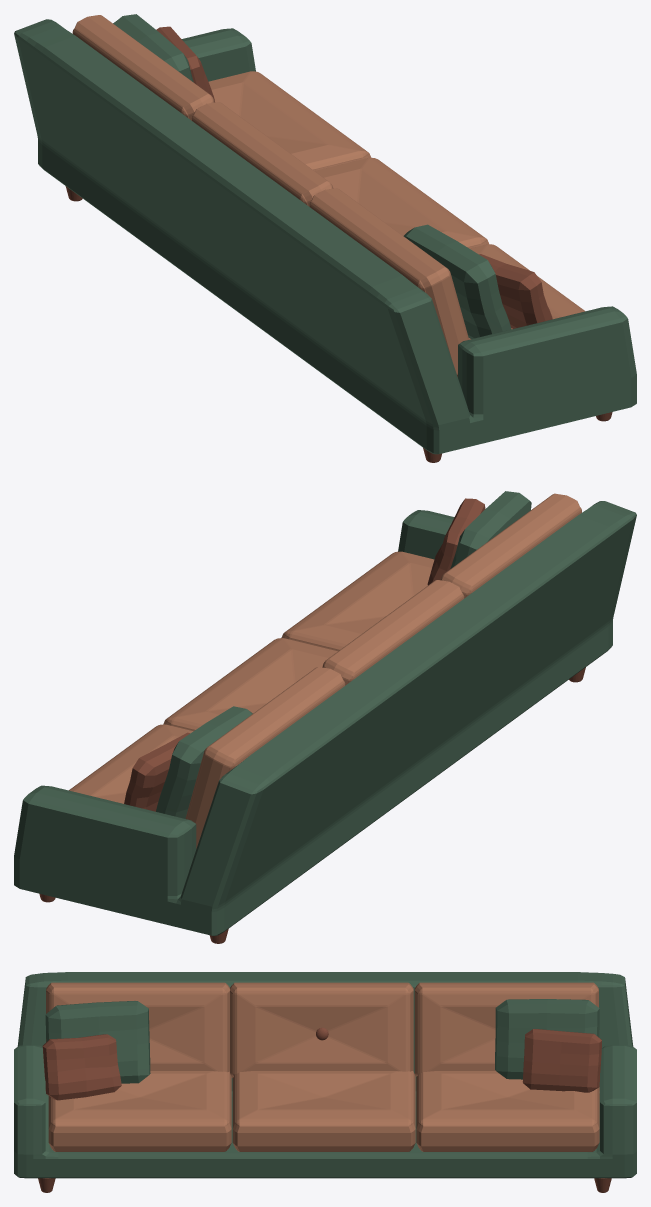
The model's file is Livingroom_Sofa3.fbx.
The picture shows the model from 3 angles, top to bottom: view 1: azimuth 30°, elevation 25°; view 2: azimuth 150°, elevation 25°; view 3: azimuth 270°, elevation 25°; orthographic projection. The views are drawn at different scales.
Parts seen in each view (by area): view 1: Livingroom_Sofa3.002, Livingroom_Sofa3, Livingroom_Sofa3.001; view 2: Livingroom_Sofa3.002, Livingroom_Sofa3, Livingroom_Sofa3.001; view 3: Livingroom_Sofa3, Livingroom_Sofa3.002, Livingroom_Sofa3.001.
Part boxes in pixels (x1=…): Livingroom_Sofa3.002: x1=14, y1=14, x2=636, y2=454; Livingroom_Sofa3: x1=72, y1=15, x2=584, y2=377; Livingroom_Sofa3.001: x1=65, y1=26, x2=612, y2=462; Livingroom_Sofa3.002: x1=14, y1=491, x2=636, y2=935; Livingroom_Sofa3: x1=69, y1=493, x2=581, y2=848; Livingroom_Sofa3.001: x1=39, y1=498, x2=585, y2=943; Livingroom_Sofa3: x1=46, y1=982, x2=599, y2=1151; Livingroom_Sofa3.002: x1=14, y1=972, x2=636, y2=1178; Livingroom_Sofa3.001: x1=38, y1=1027, x2=611, y2=1192.
Size of the model in its own units: 329 by 84.22 by 113.
